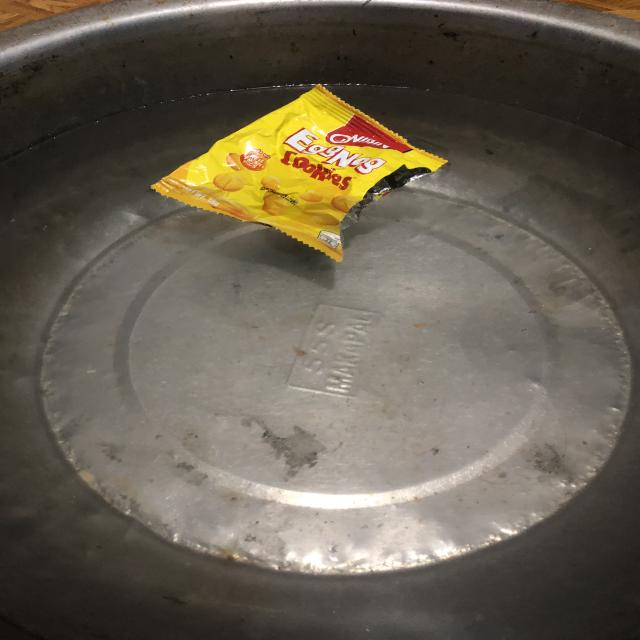Plastic Wrapper: (164, 82, 436, 264)
